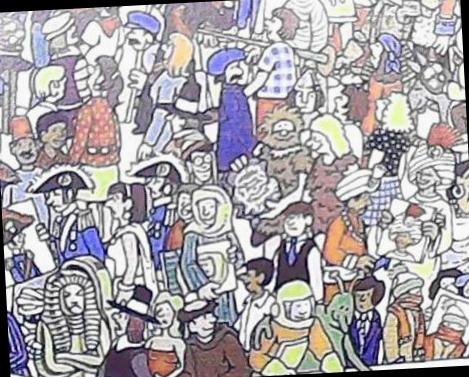waldo: (172, 135, 215, 183)
